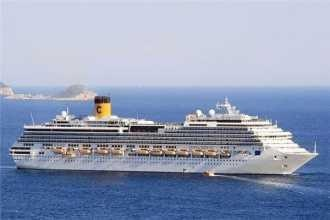youlun: (7, 95, 321, 175)
